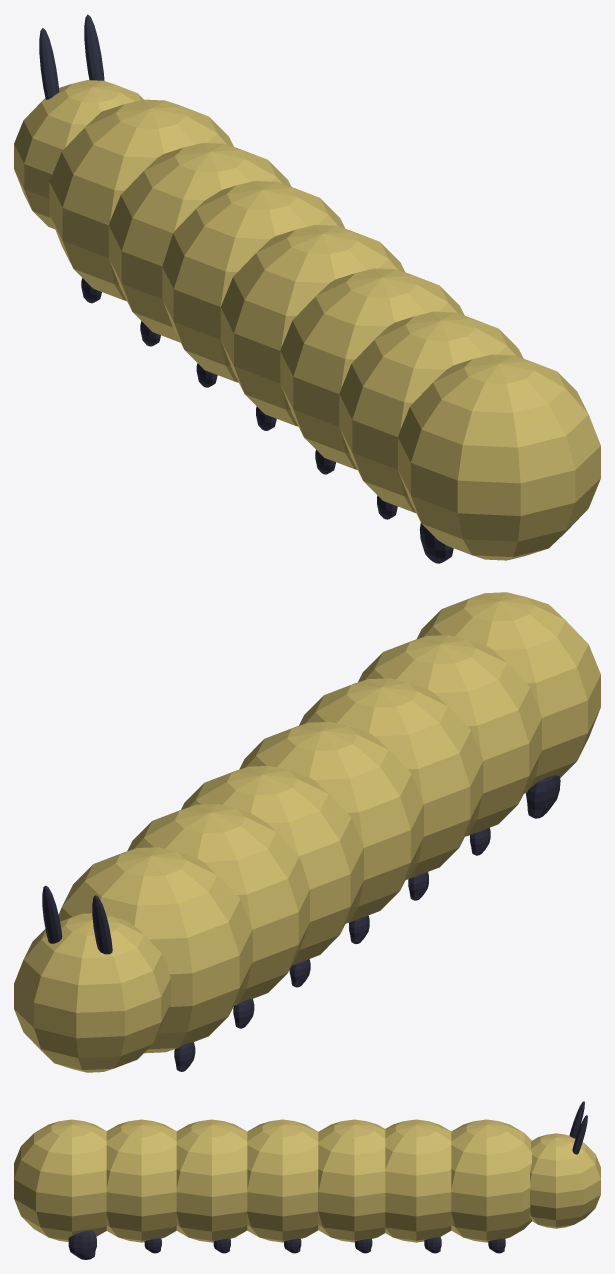
Rendered from hallie_caterpillar.fbx.
The picture shows the model from 3 angles, top to bottom: view 1: azimuth 30°, elevation 25°; view 2: azimuth 150°, elevation 25°; view 3: azimuth 270°, elevation 25°; orthographic projection. The views are drawn at different scales.
Visible parts, largest first — view 1: m_caterpillar; view 2: m_caterpillar; view 3: m_caterpillar.
Part boxes in pixels (box(x1,y1,x2,y2)): m_caterpillar: box(14, 14, 600, 563); m_caterpillar: box(14, 592, 600, 1072); m_caterpillar: box(14, 1101, 600, 1259).
Bounding box in the file's own units: 0.0132 × 0.0159 × 0.0639.
